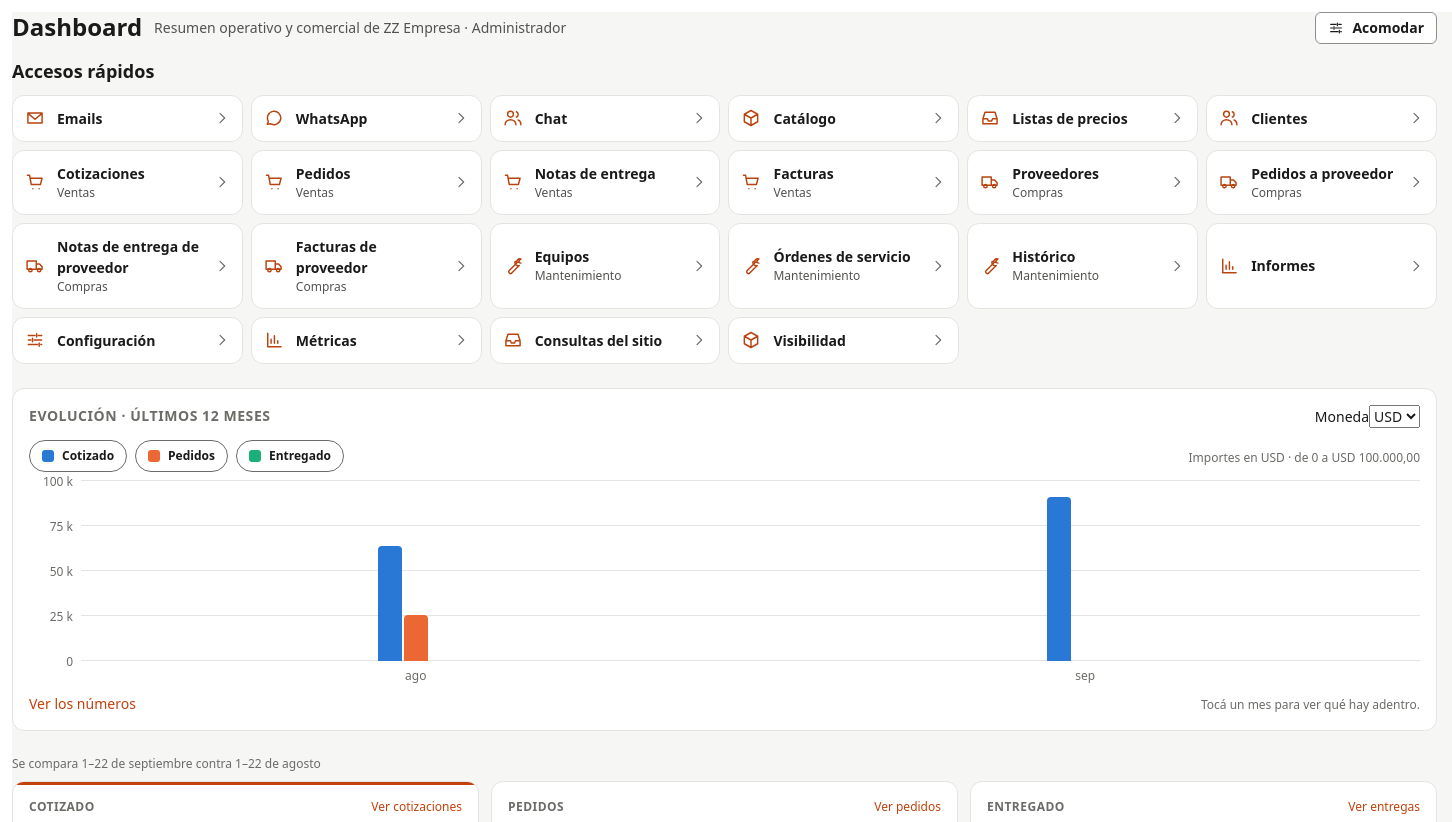
Test: D · La evolución › al señalar un mes dice el importe de cada serie
Hover over the 2nd button named "Septiembre 2026" at x=1085, y=570, box [750,480,1420,660]
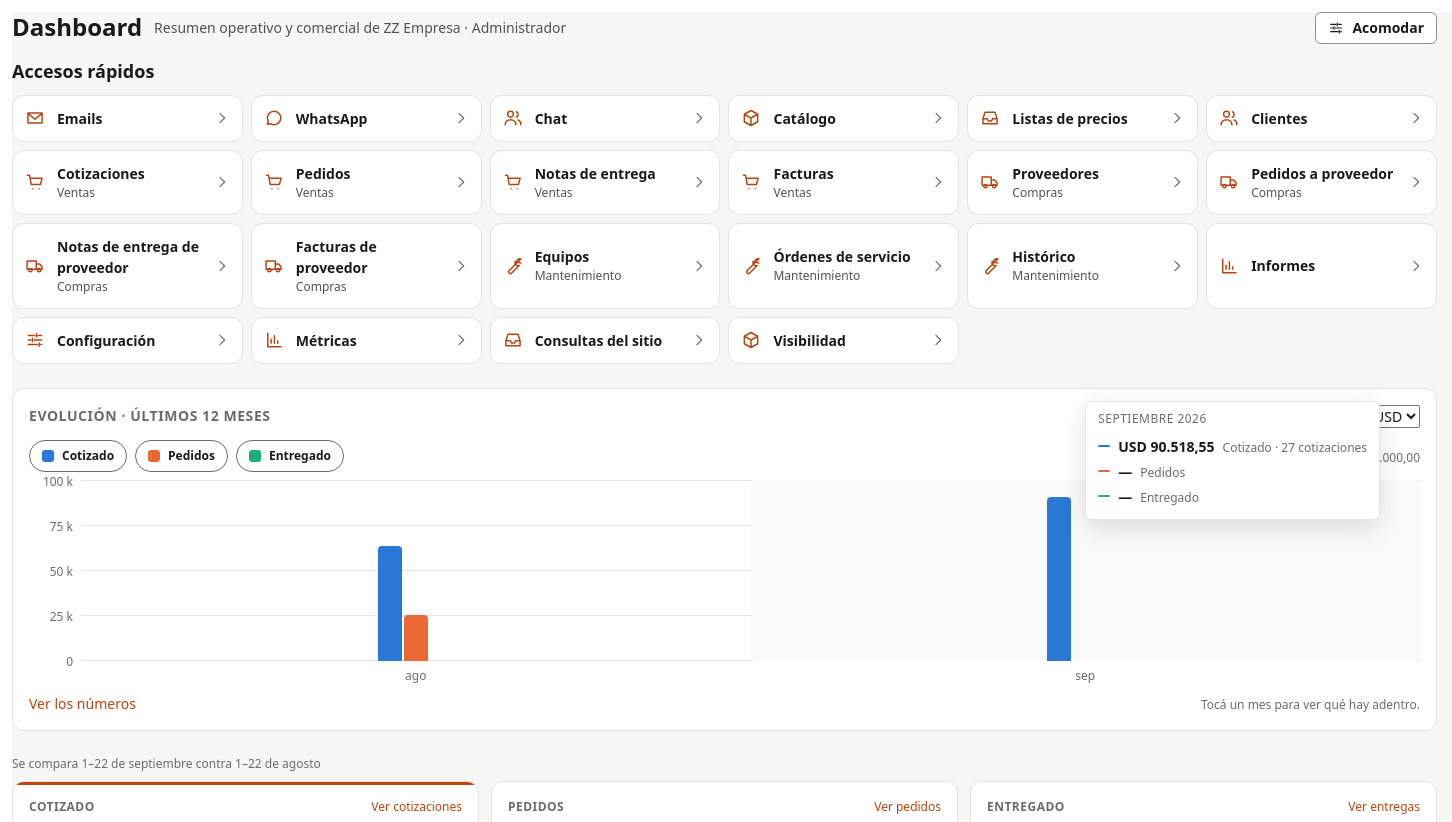
Expected: the text "Septiembre 2026" is shown, [1098,410,1207,426]
Expected: the text "USD 90.518,55" is shown, [1118,436,1215,456]
Expected: the text "Cotizado · 27 cotizaciones" is shown, [1223,438,1367,456]
